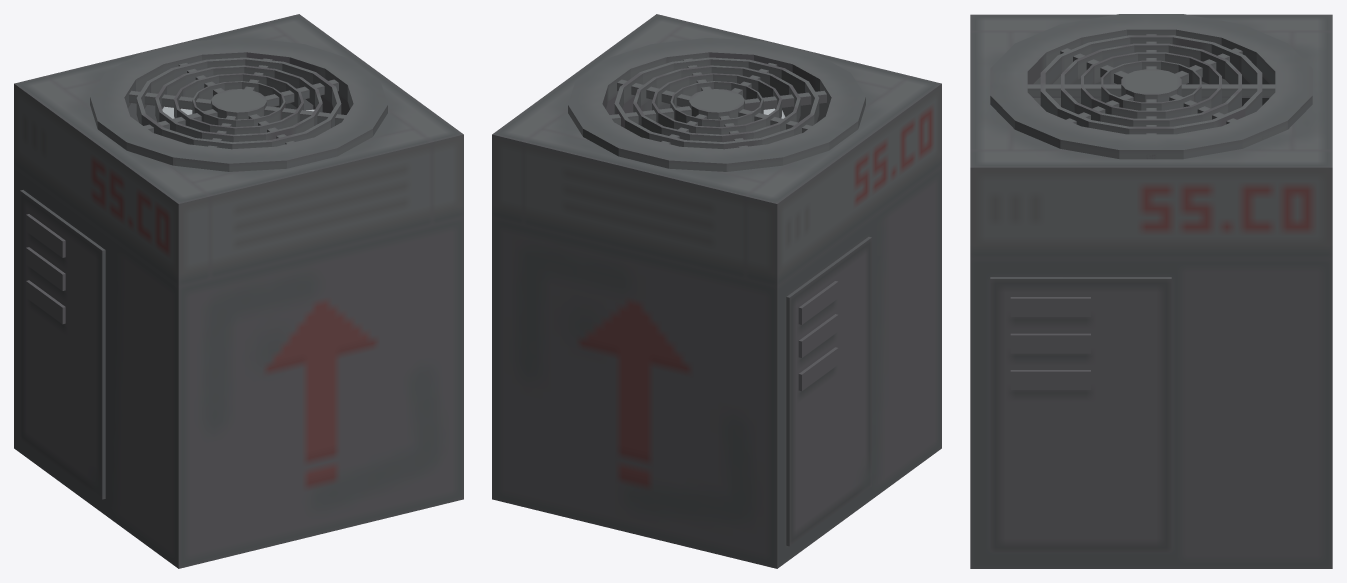
The model's file is Fan.fbx.
The picture shows the model from 3 angles, left to right: view 1: azimuth 30°, elevation 25°; view 2: azimuth 150°, elevation 25°; view 3: azimuth 270°, elevation 25°; orthographic projection. The views are drawn at different scales.
Visible parts, largest first — view 1: Box, Case, Shroud, Panel1; view 2: Box, Case, Shroud, Panel1; view 3: Box, Case, Panel2, Shroud.
Part boxes in pixels (x1,y1,x2,y2): Box: [14, 167, 463, 568]; Case: [14, 14, 463, 286]; Shroud: [90, 38, 387, 171]; Panel1: [20, 190, 105, 499]; Box: [492, 167, 941, 568]; Case: [492, 14, 941, 286]; Shroud: [568, 38, 865, 171]; Panel1: [786, 237, 871, 546]; Box: [970, 259, 1332, 568]; Case: [970, 14, 1332, 258]; Panel2: [990, 277, 1171, 552]; Shroud: [990, 14, 1312, 159].
Bounding box in the file's own units: 118 × 141 × 112.
Materials: 1 (1 with a texture image).
